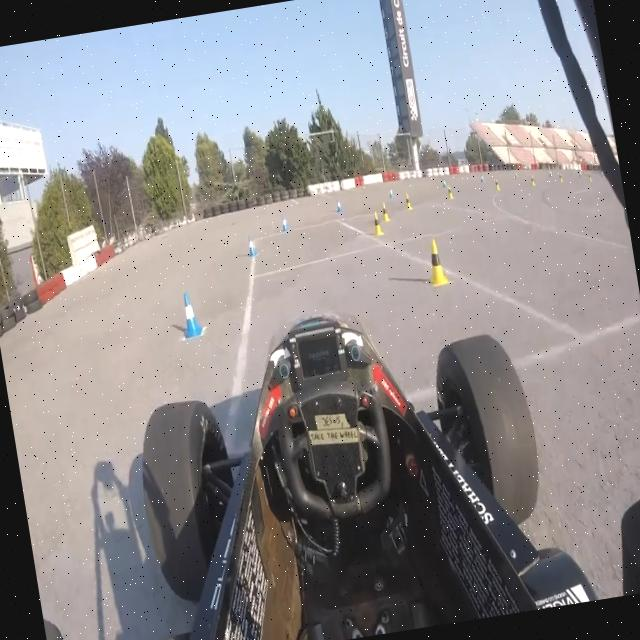blue_cone: (173, 288, 206, 341), (244, 231, 260, 261), (277, 212, 290, 237), (334, 195, 344, 217), (440, 176, 448, 190), (387, 187, 394, 200), (480, 173, 486, 185)
yellow_cone: (421, 234, 451, 290), (370, 210, 385, 240), (379, 200, 391, 223), (402, 192, 413, 214), (446, 186, 455, 204), (494, 178, 502, 195), (530, 175, 536, 187)
